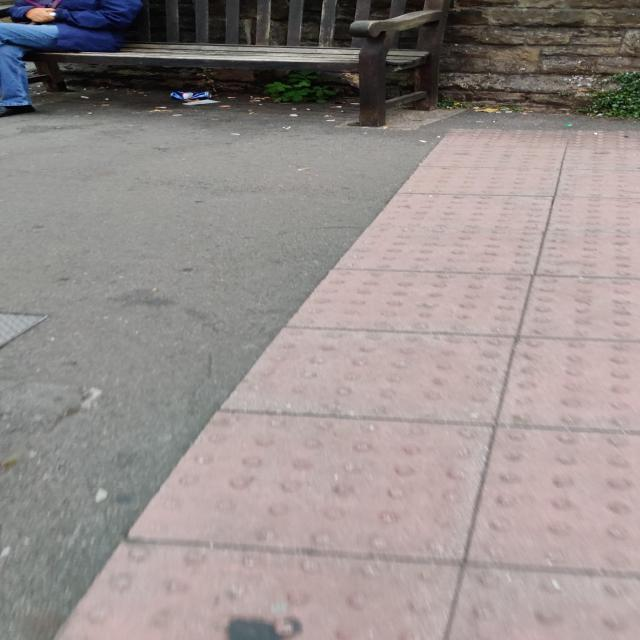litter: (167, 89, 213, 102), (225, 95, 276, 104)
